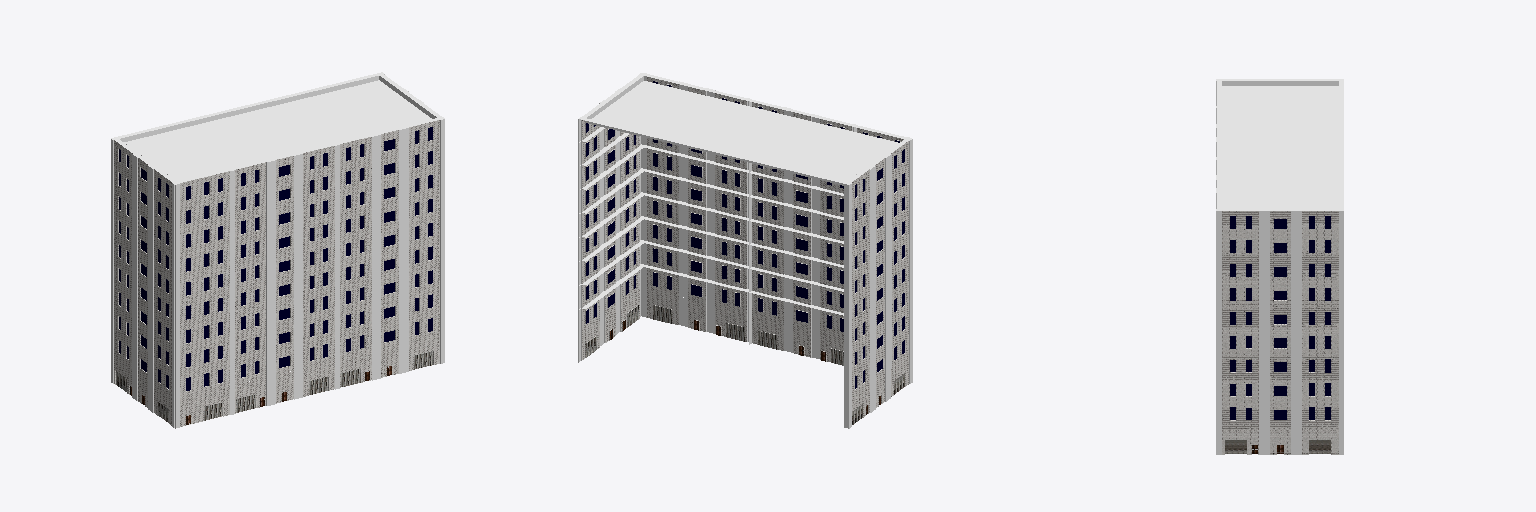
3 views of the same model, side by side, from view 1: azimuth 30°, elevation 25°; view 2: azimuth 150°, elevation 25°; view 3: azimuth 270°, elevation 25° (orthographic).
Parts seen in each view (by area): view 1: LongBuilding2; view 2: LongBuilding2; view 3: LongBuilding2.
Part boxes in pixels (left/top/right/bottom): LongBuilding2: left=111, top=72, right=444, bottom=428; LongBuilding2: left=578, top=73, right=912, bottom=428; LongBuilding2: left=1216, top=79, right=1343, bottom=454.
Size of the model in its own units: 69.18 by 51 by 24.2.
Materials: 6 (3 with a texture image).